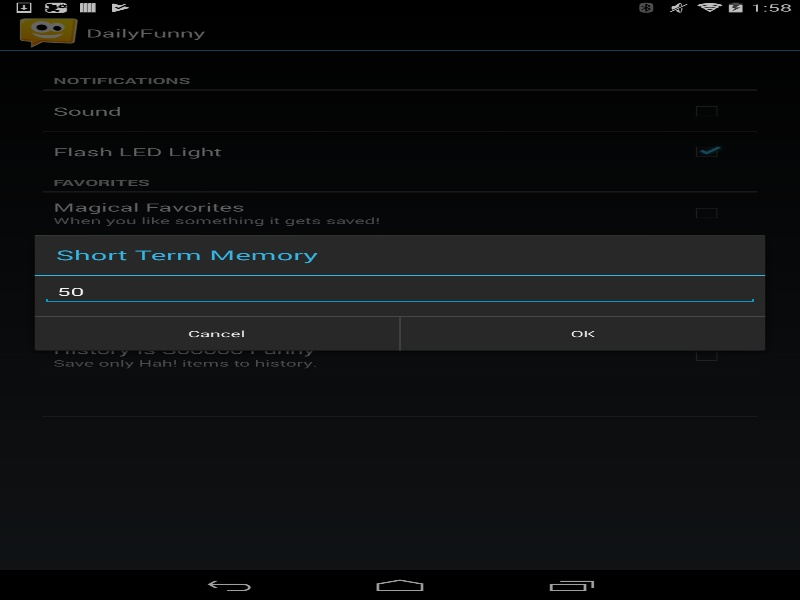Button: (34, 316, 399, 350), (400, 316, 765, 350)
Input: (41, 279, 758, 304)
